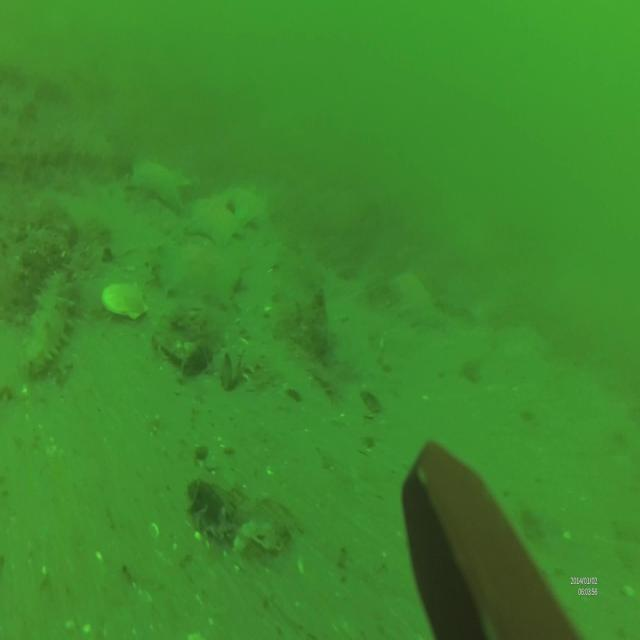holothurian: (26, 268, 68, 372)
scallop: (102, 276, 146, 321)
starfish: (186, 174, 264, 244), (130, 152, 188, 205)
